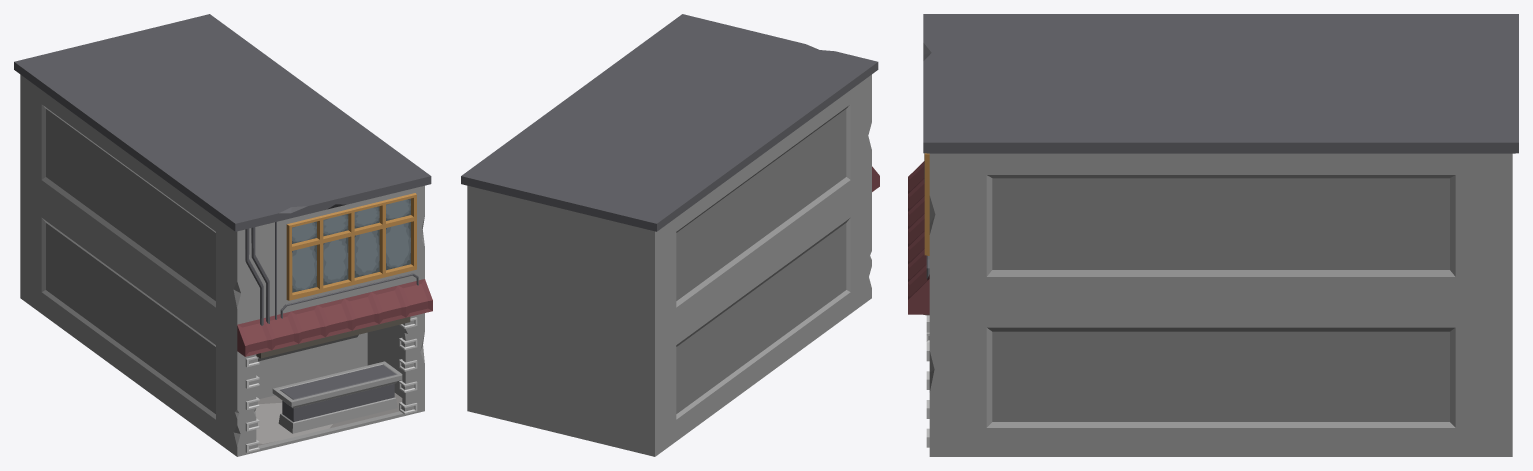
The model's file is SM_Bld_Chopshop_01.fbx.
3 renders of one model, left to right at view 1: azimuth 30°, elevation 25°; view 2: azimuth 150°, elevation 25°; view 3: azimuth 270°, elevation 25°, orthographic. The views are drawn at different scales.
Parts seen in each view (by area): view 1: SM_Bld_Chopshop_01; view 2: SM_Bld_Chopshop_01; view 3: SM_Bld_Chopshop_01.
Boxes of the visible parts, x1=… form: SM_Bld_Chopshop_01: x1=14, y1=14, x2=432, y2=456; SM_Bld_Chopshop_01: x1=461, y1=14, x2=879, y2=456; SM_Bld_Chopshop_01: x1=908, y1=14, x2=1518, y2=456.
Size of the model in its own units: 521 by 600 by 1048.
